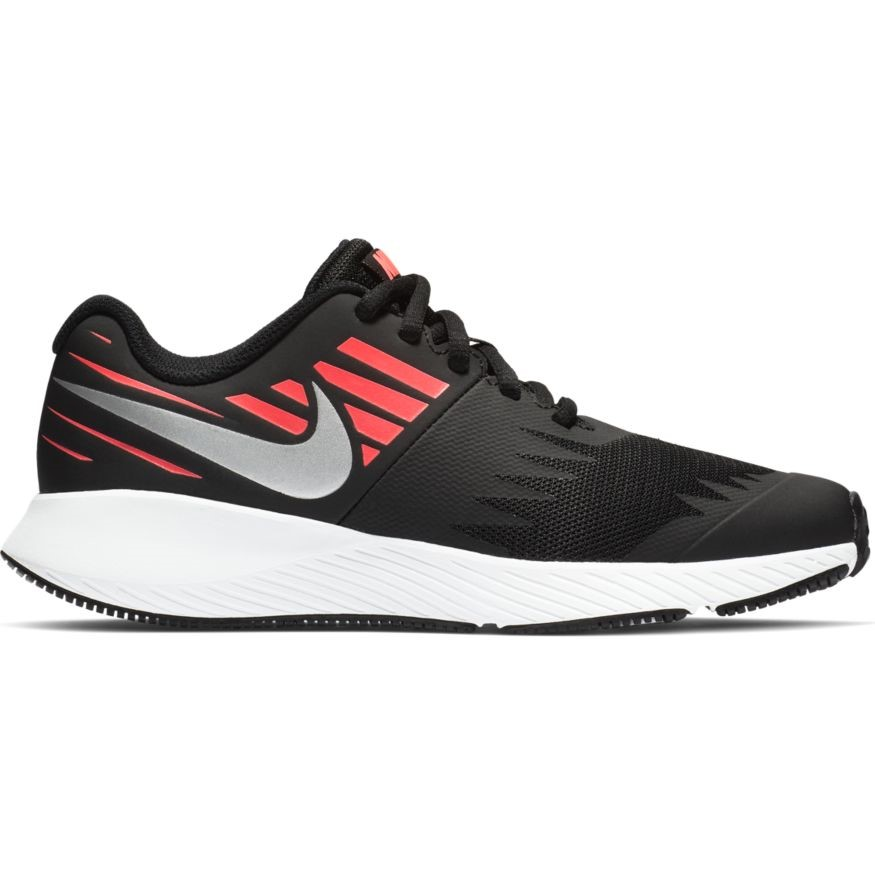nike: (65, 364, 368, 517)
